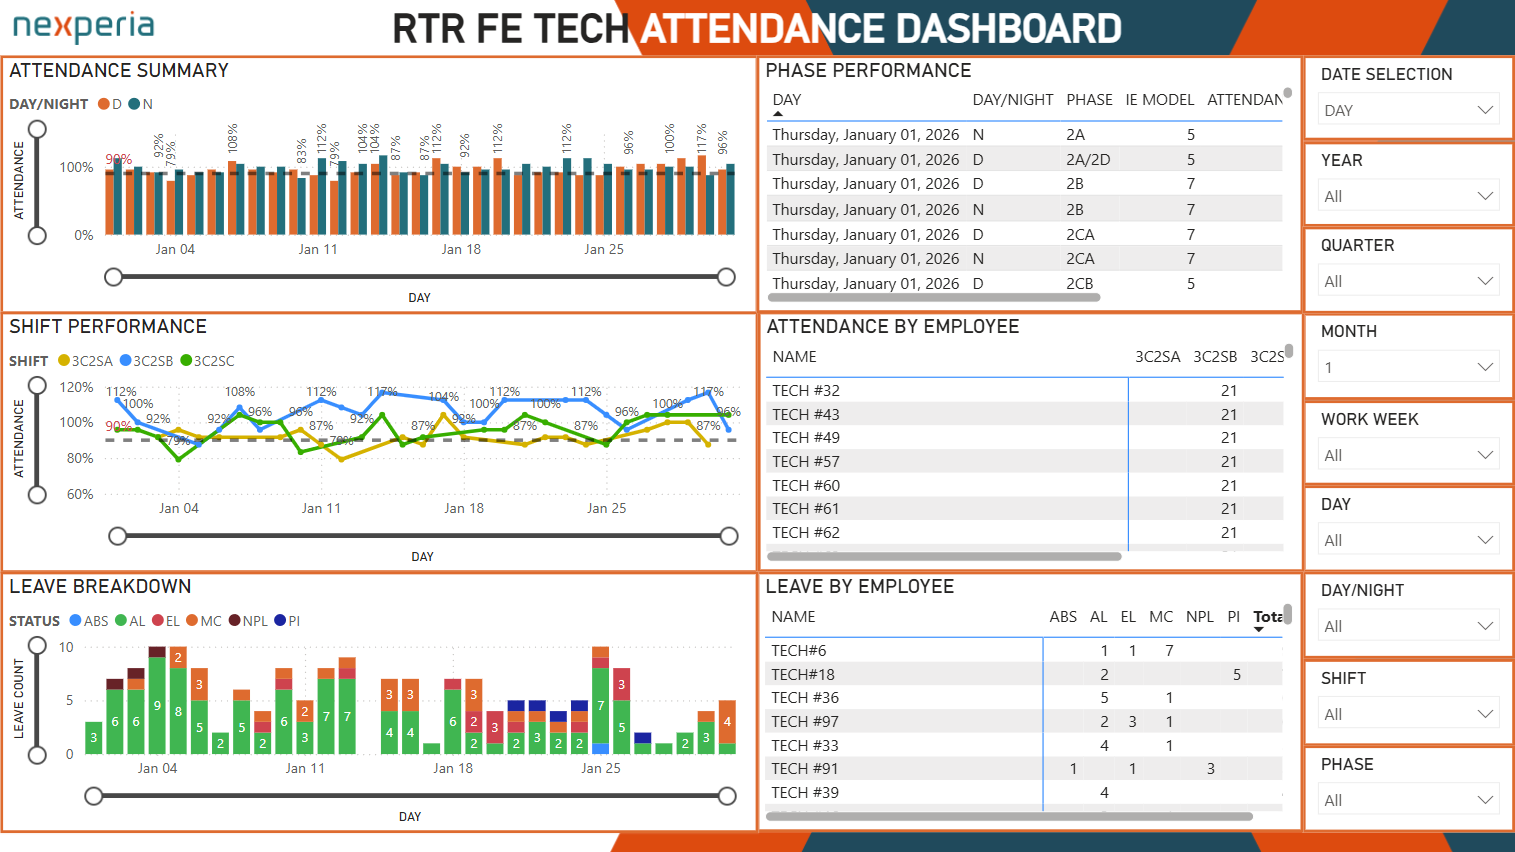

Layout of this report page (visuals, bound fields, positions):
{"tool":"powerbi","page":{"name":"Page 1","canvas":[1280,720],"ordinal":0},"visuals":[{"type":"clusteredColumnChart","title":"ATTENDANCE SUMMARY","fields":{"Category":["DATE_TABLE.DATE"],"Y":["DATE SELECTION.% SHIFT Display"],"Series":["SHIFTQUERY.DAY/NIGHT"]},"box":[0.9,47.3,640,218.2],"z":0},{"type":"slicer","fields":{"Values":["DATE SELECTION.DATE SELECTION"]},"box":[1100,47.7,179.1,72.1],"z":1000},{"type":"slicer","fields":{"Values":["SHIFTQUERY.YEAR Hierarchy.WORK WEEK"]},"box":[1100,338.4,179.1,72.1],"z":2000},{"type":"slicer","fields":{"Values":["SHIFTQUERY.YEAR Hierarchy.YEAR"]},"box":[1100,119.8,179.1,72.1],"z":3000},{"type":"slicer","fields":{"Values":["SHIFTQUERY.YEAR Hierarchy.MONTH"]},"box":[1100,265.1,179.1,73.3],"z":4000},{"type":"slicer","fields":{"Values":["SHIFTQUERY.YEAR Hierarchy.DAY"]},"box":[1100,410.5,179.1,73.3],"z":5000},{"type":"textbox","box":[320.9,0,638.4,48.8],"z":6000},{"type":"slicer","fields":{"Values":["SHIFTQUERY.DAY/NIGHT"]},"box":[1100,483.7,179.1,73.3],"z":7000},{"type":"slicer","fields":{"Values":["SHIFTQUERY.SHIFT"]},"box":[1100,557,179.1,73.3],"z":8000},{"type":"slicer","fields":{"Values":["SHIFTQUERY.PHASE"]},"box":[1100,630.2,179.1,73.3],"z":9000},{"type":"lineChart","title":"SHIFT PERFORMANCE","fields":{"Category":["DATE_TABLE.DATE"],"Y":["DATE SELECTION.% SHIFT Display"],"Series":["SHIFTQUERY.EFF SHFIT"]},"box":[0.6,263.8,640,220.6],"z":10000},{"type":"pivotTable","title":"ATTENDANCE BY EMPLOYEE","fields":{"Values":["Sum(SHIFTQUERY.ATTENDANCE)"],"Rows":["SHIFTQUERY.NAME"],"Columns":["SHIFTQUERY.SHIFT"]},"box":[640,263.8,461.2,220],"z":11000},{"type":"pivotTable","title":"LEAVE BY EMPLOYEE","fields":{"Rows":["SHIFTQUERY.NAME"],"Values":["CountNonNull(SHIFTQUERY.STATUS)"],"Columns":["SHIFTQUERY.STATUS"]},"box":[639.5,483.7,461.6,219.8],"z":12000},{"type":"tableEx","title":"PHASE PERFORMANCE","fields":{"Values":["DATE_TABLE.DATE","SHIFTQUERY.DAY/NIGHT","SHIFTQUERY.PHASE","SHIFTQUERY.IE MODEL","Sum(SHIFTQUERY.ATTENDANCE)","SHIFTQUERY.STATUS","DATE SELECTION.% PHASE Display"]},"box":[639.5,47.7,461.6,217.4],"z":13000},{"type":"columnChart","title":"LEAVE BREAKDOWN","fields":{"Category":["DATE_TABLE.DATE"],"Series":["SHIFTQUERY.STATUS"],"Y":["CountNonNull(SHIFTQUERY.STATUS)"]},"box":[0.9,482.7,640,220.9],"z":14000},{"type":"slicer","fields":{"Values":["SHIFTQUERY.YEAR Hierarchy.QUARTER"]},"box":[1100,191.9,179.1,73.3],"z":15000}]}

Visuals, with their boxes in screenshot pixels (x1, y1, x2, y2), scaled from the page's 1280x720 canvas onto the 1515x852 screenshot:
"ATTENDANCE SUMMARY" clusteredColumnChart: bbox=(1, 56, 759, 314)
slicer - DATE SELECTION.DATE SELECTION: bbox=(1302, 56, 1514, 142)
slicer - SHIFTQUERY.YEAR Hierarchy.WORK WEEK: bbox=(1302, 400, 1514, 486)
slicer - SHIFTQUERY.YEAR Hierarchy.YEAR: bbox=(1302, 142, 1514, 227)
slicer - SHIFTQUERY.YEAR Hierarchy.MONTH: bbox=(1302, 314, 1514, 400)
slicer - SHIFTQUERY.YEAR Hierarchy.DAY: bbox=(1302, 486, 1514, 572)
textbox: bbox=(380, 0, 1135, 58)
slicer - SHIFTQUERY.DAY/NIGHT: bbox=(1302, 572, 1514, 659)
slicer - SHIFTQUERY.SHIFT: bbox=(1302, 659, 1514, 746)
slicer - SHIFTQUERY.PHASE: bbox=(1302, 746, 1514, 832)
"SHIFT PERFORMANCE" lineChart: bbox=(1, 312, 758, 573)
"ATTENDANCE BY EMPLOYEE" pivotTable: bbox=(758, 312, 1303, 572)
"LEAVE BY EMPLOYEE" pivotTable: bbox=(757, 572, 1303, 832)
"PHASE PERFORMANCE" tableEx: bbox=(757, 56, 1303, 314)
"LEAVE BREAKDOWN" columnChart: bbox=(1, 571, 759, 833)
slicer - SHIFTQUERY.YEAR Hierarchy.QUARTER: bbox=(1302, 227, 1514, 314)
